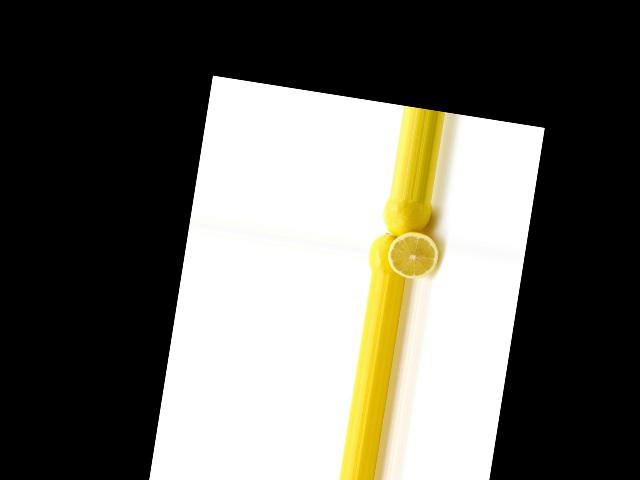lemon: (368, 224, 413, 277)
